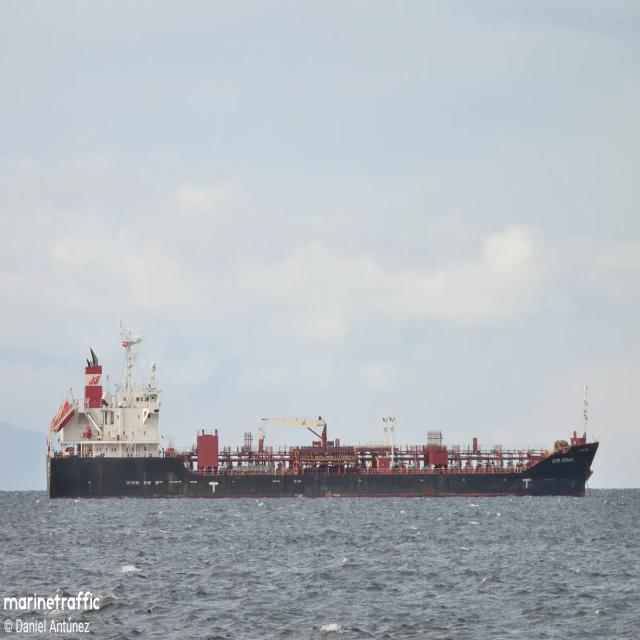Tanker: (47, 330, 598, 498), (583, 398, 587, 430)
